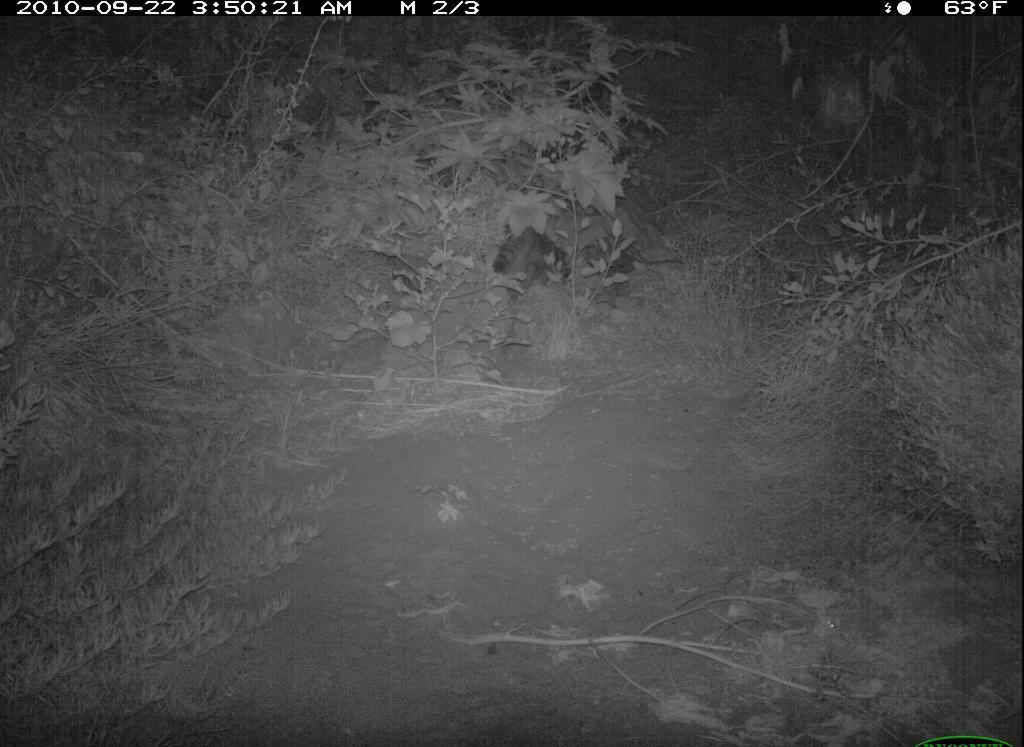raccoon: (489, 213, 597, 302)
